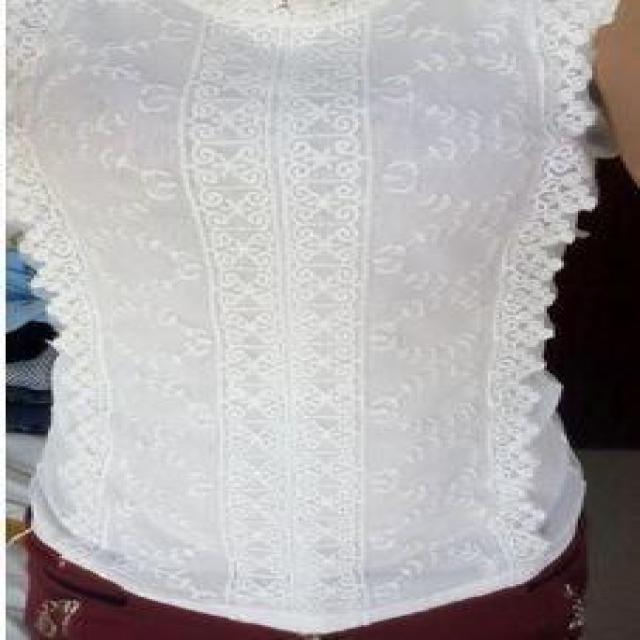vest: (6, 0, 620, 634)
